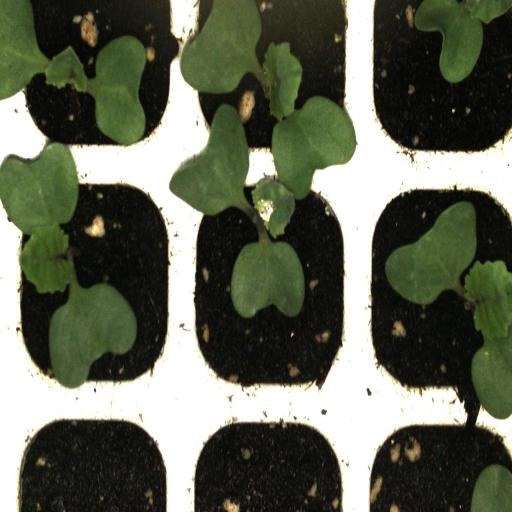Folha: (415, 0, 512, 84), (470, 464, 512, 512)
Germinacao: (181, 162, 358, 398), (5, 164, 181, 401), (358, 168, 512, 411), (181, 0, 361, 167), (6, 0, 185, 160)
